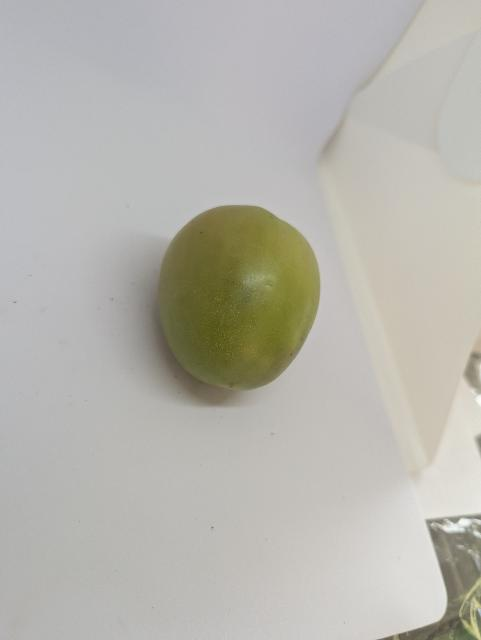green: (148, 167, 338, 415)
